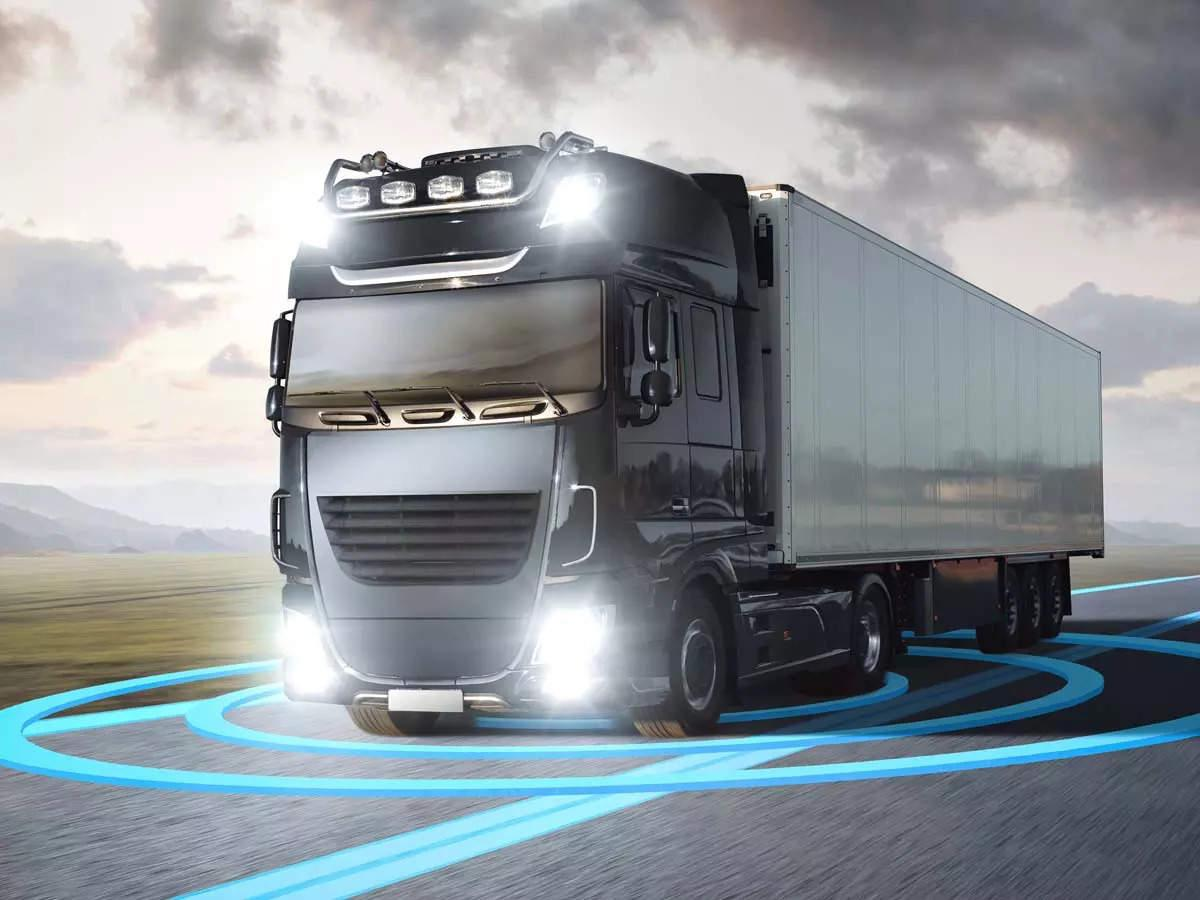truck: (264, 133, 1103, 737)
